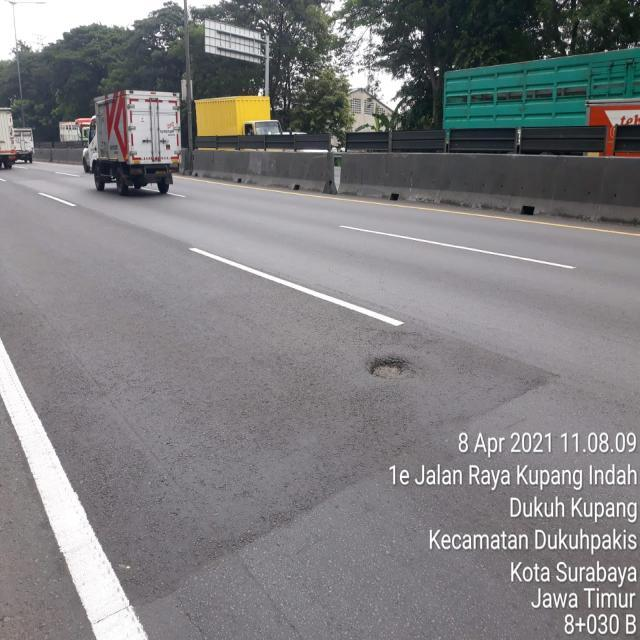Buraco: (366, 354, 414, 382)
